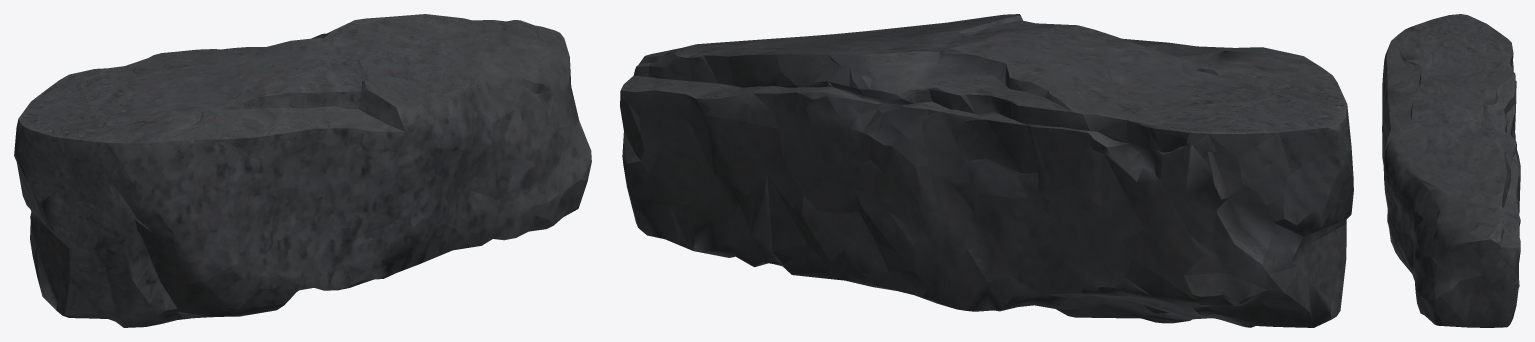
File: gneiss_slab.glb
3 renders of one model, left to right at view 1: azimuth 30°, elevation 25°; view 2: azimuth 150°, elevation 25°; view 3: azimuth 270°, elevation 25°, orthographic. The views are drawn at different scales.
Bounding box in the file's own units: 1.9 × 0.656 × 0.5992.
1 material, 1 textured.
